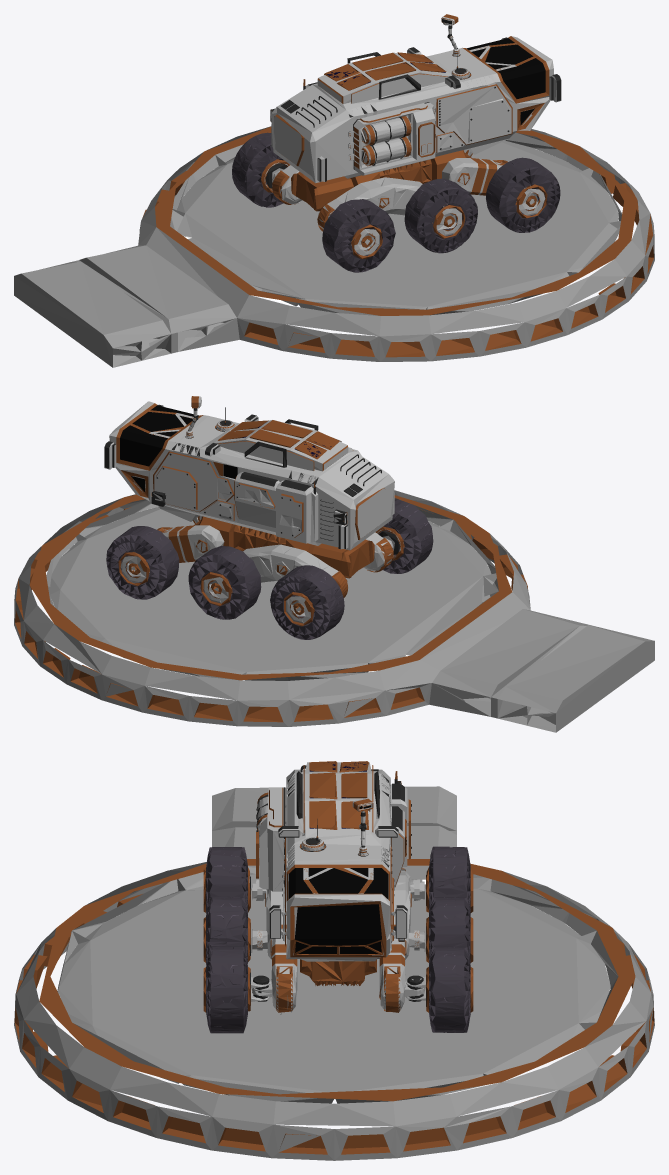
File: env_rover.glb
The picture shows the model from 3 angles, top to bottom: view 1: azimuth 30°, elevation 25°; view 2: azimuth 150°, elevation 25°; view 3: azimuth 270°, elevation 25°; orthographic projection. The views are drawn at different scales.
Visible parts, largest first — view 1: Cylinder.001_18, Hull_2, Wheels_1, BatteryHolder_7, Rover.001_8, RearPlatings_4, Rover_0, Hull.001_11, Lights_5; view 2: Cylinder.001_18, Hull_2, Wheels_1, Rover.001_8, RadioModule_6, RearPlatings_4, Rover_0, Hull.001_11, Lights_5; view 3: Cylinder.001_18, Hull_2, Wheels_1, Rover.001_8, BatteryHolder_7, RadioModule_6, Rover_0, Lights_5.
Part boxes in pixels (left/top/right/bottom): Cylinder.001_18: left=14, top=126, right=654, bottom=367; Hull_2: left=271, top=36, right=553, bottom=183; Wheels_1: left=232, top=132, right=560, bottom=272; BatteryHolder_7: left=348, top=102, right=435, bottom=175; Rover.001_8: left=272, top=149, right=507, bottom=231; RearPlatings_4: left=436, top=84, right=512, bottom=152; Rover_0: left=291, top=150, right=471, bottom=211; Hull.001_11: left=274, top=114, right=304, bottom=166; Lights_5: left=271, top=37, right=561, bottom=181; Cylinder.001_18: left=14, top=490, right=654, bottom=732; Hull_2: left=109, top=401, right=394, bottom=550; Wheels_1: left=106, top=499, right=433, bottom=639; Rover.001_8: left=157, top=515, right=394, bottom=597; RadioModule_6: left=234, top=472, right=318, bottom=543; RearPlatings_4: left=153, top=451, right=234, bottom=520; Rover_0: left=194, top=516, right=374, bottom=578; Hull.001_11: left=355, top=488, right=385, bottom=539; Lights_5: left=104, top=404, right=394, bottom=549; Cylinder.001_18: left=14, top=786, right=654, bottom=1160; Hull_2: left=286, top=761, right=391, bottom=961; Wheels_1: left=203, top=846, right=473, bottom=1033; Rover.001_8: left=251, top=868, right=425, bottom=1014; BatteryHolder_7: left=256, top=787, right=285, bottom=891; RadioModule_6: left=390, top=771, right=411, bottom=887; Rover_0: left=300, top=959, right=376, bottom=985; Lights_5: left=269, top=804, right=407, bottom=938.
Bounding box in the file's own units: 21.45 × 7.8 × 17.23.
